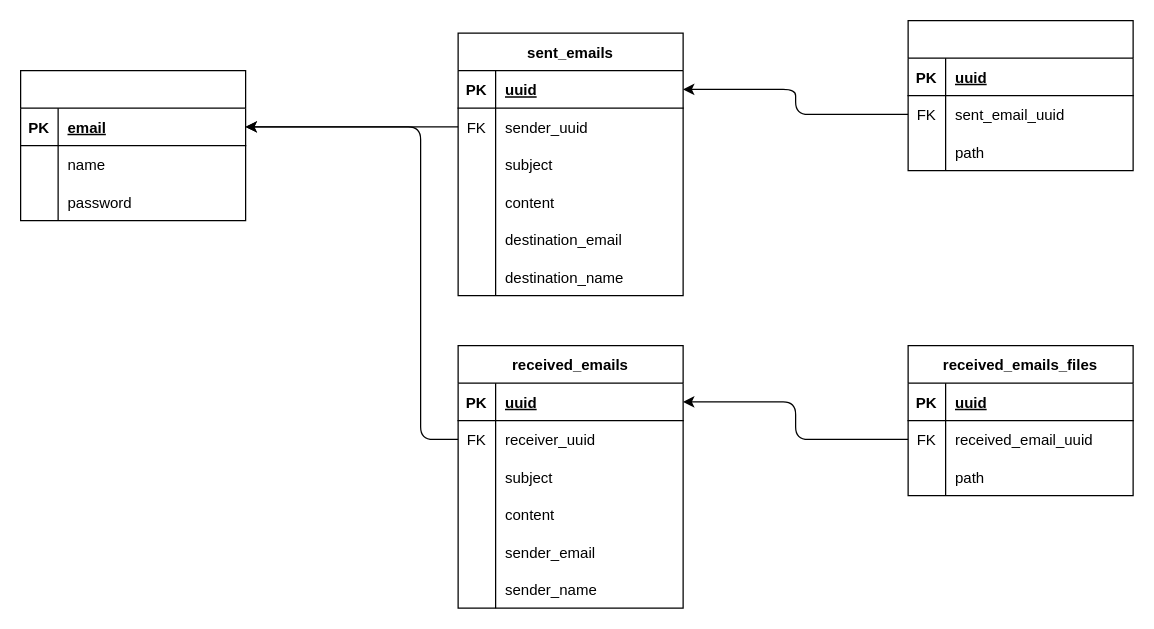
Image size: 1154x629. Some labels were removed from this diagram. The shapes that lost their labels are listed below. From the top down, each one's box as (x1, y1, x2, y2) in pixels, then its label:
(907, 19, 1133, 171): sent_emails_files
(19, 69, 246, 221): users
